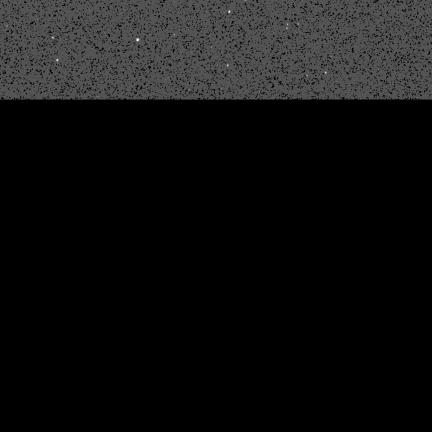blob: (137, 38, 140, 42), (52, 37, 55, 39), (57, 59, 59, 62), (229, 11, 231, 14), (227, 64, 229, 67)
